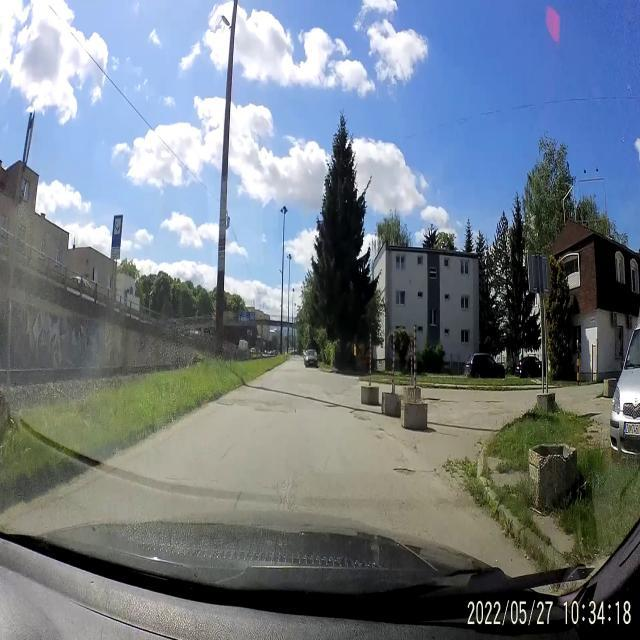Pothole: (350, 402, 372, 428), (393, 461, 416, 479)
